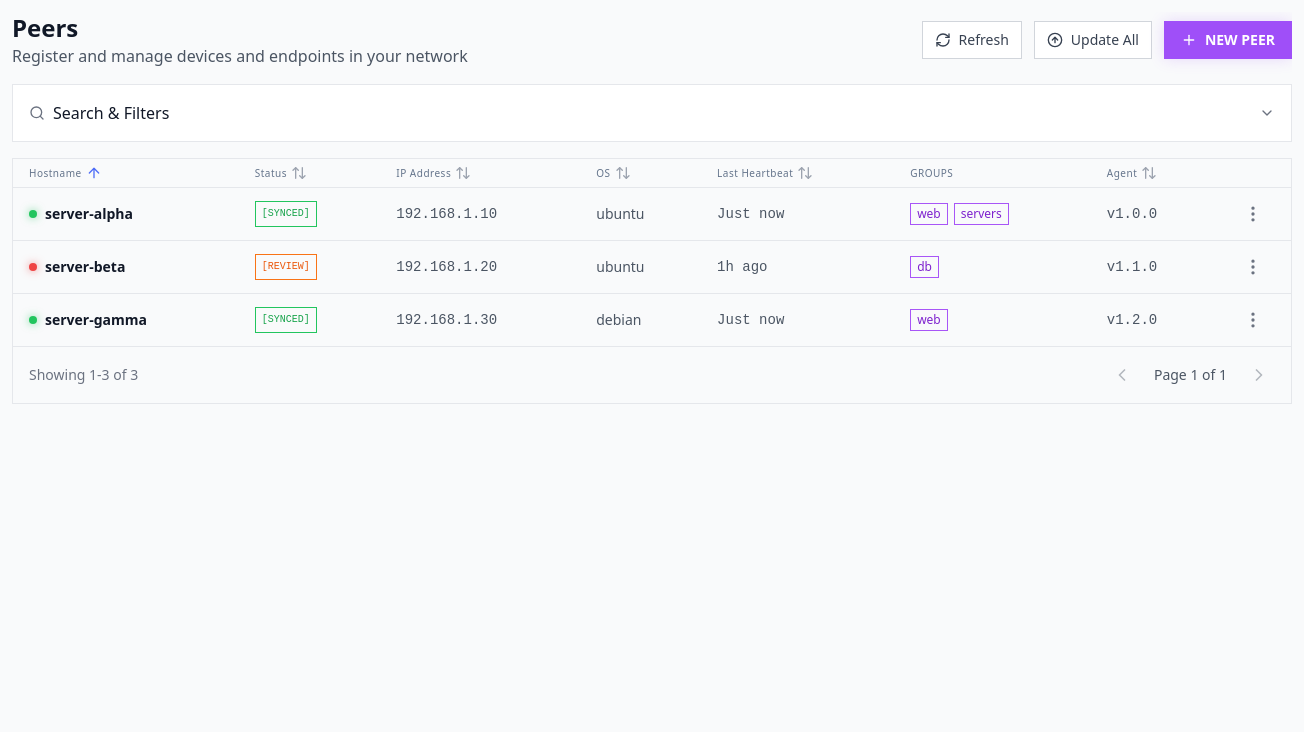
Scenario: Peers Page › Filter Controls › status filter buttons are rendered
The image size is (1304, 732).
expect the table is shown: met, box [13,188,1291,346]
expect the text "server-alpha" is shown: met, box [45,204,133,224]
// Expand the Search & Filters panel first
Click the button "Search & Filters" at (111, 113), box [13,85,1291,141]
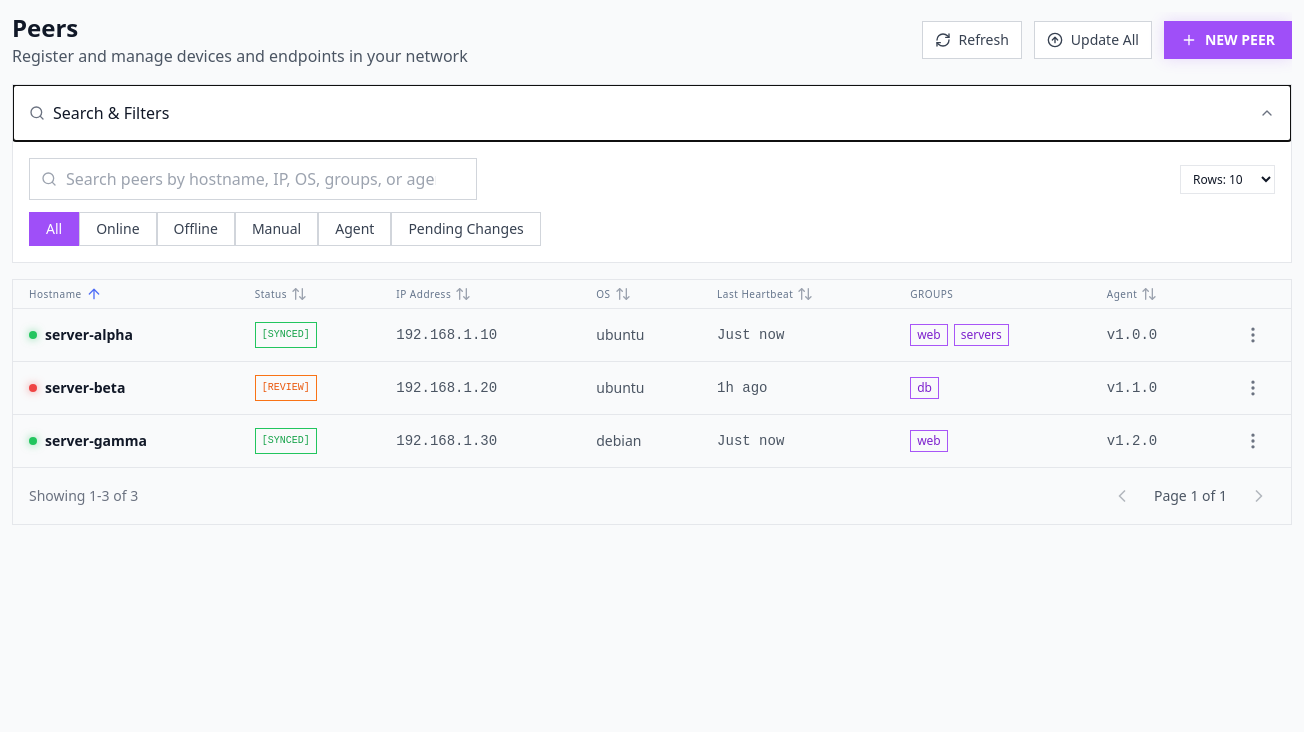
expect the button "All" is shown: met, box [29,212,79,246]
expect the button "Online" is shown: met, box [79,212,157,246]
expect the button "Offline" is shown: met, box [156,212,235,246]
